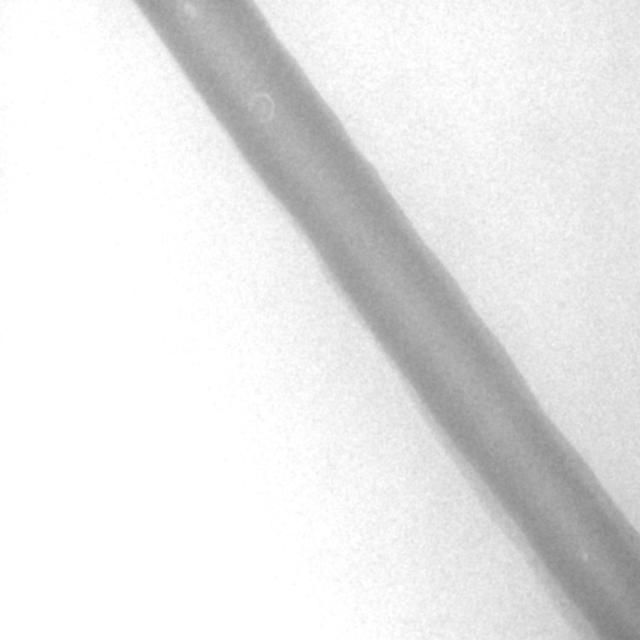air hole: (579, 551, 589, 564)
hollow bead: (245, 90, 275, 125)
